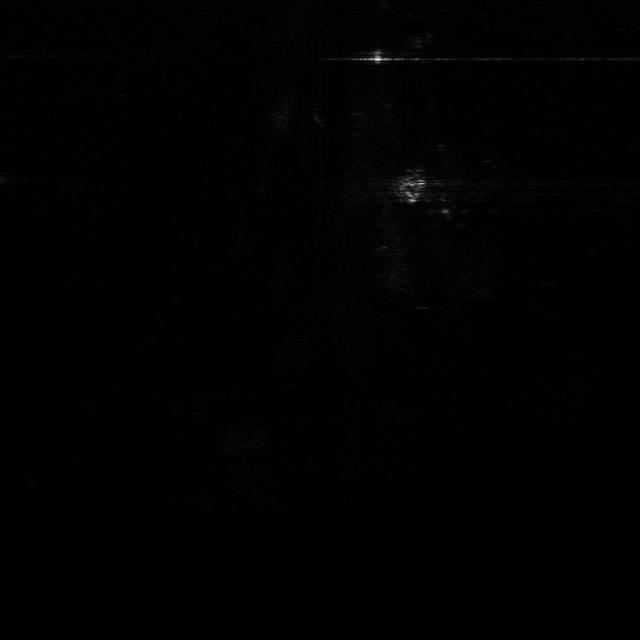rov: (396, 174, 430, 206)
